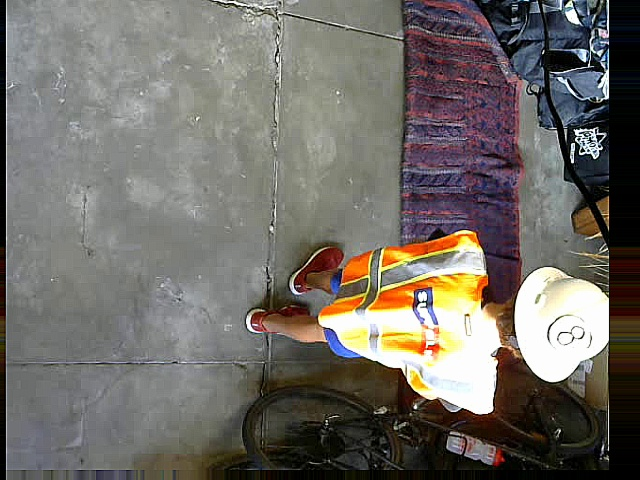eight: (545, 313, 592, 358)
